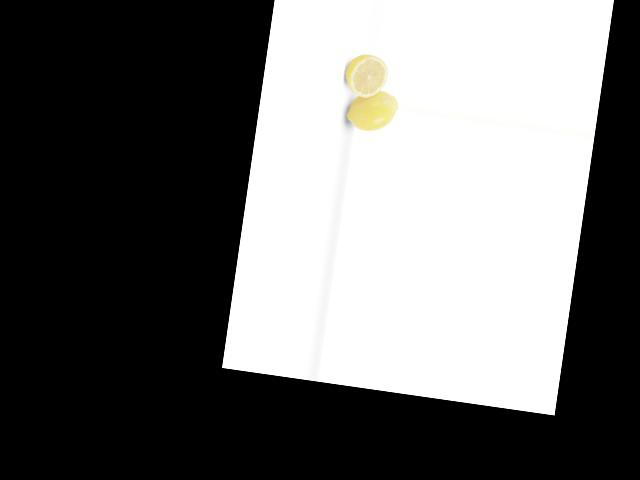lemon: (341, 83, 401, 138)
